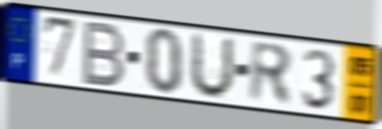0: (139, 26, 186, 97)
3: (301, 48, 338, 113)
7: (41, 13, 81, 84)
B: (80, 19, 128, 90)
R: (248, 38, 294, 109)
U: (187, 30, 236, 101)
